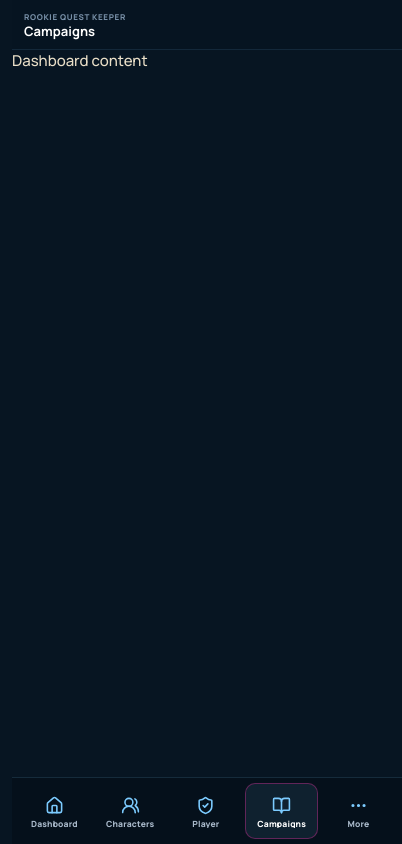
AppShell › keeps the phone dock to four sections and More at 390px
Expected: the links read "Dashboard", "Characters", "Player", "Campaigns", in this order, [31,796,78,830]; [106,796,154,830]; [192,796,219,830]; [245,783,318,839]
Expected: the button "Ask Rook" is not shown
Step 1. Click the button with aria-label "Open more tools" → (358, 811), box [321,783,396,839]
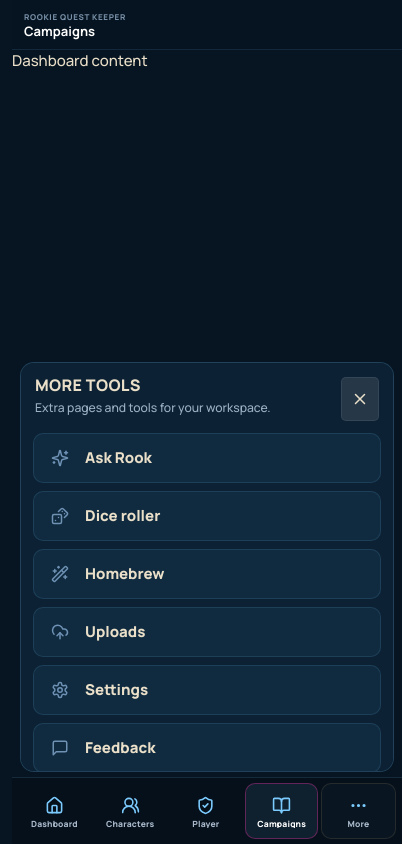
Step 2. Press Escape
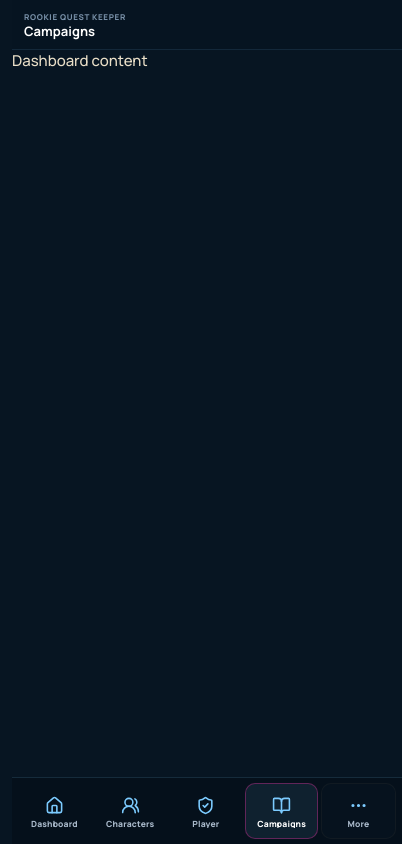
Expected: the menu is gone
